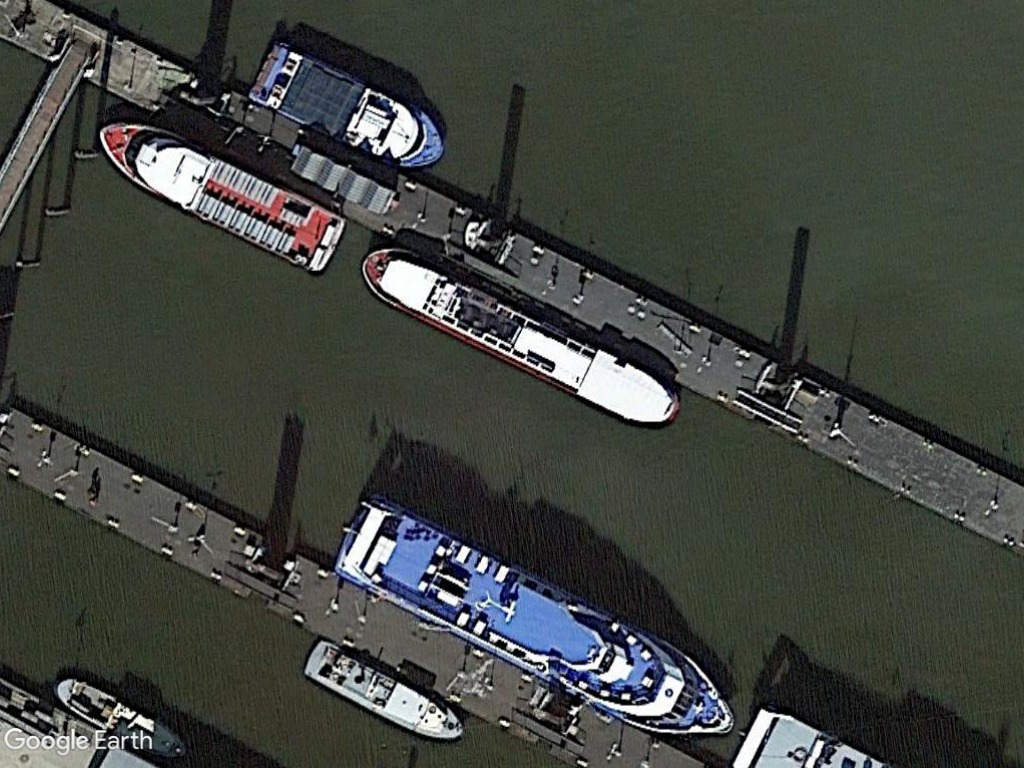boat: (325, 490, 736, 741), (355, 242, 688, 433), (93, 117, 348, 277), (244, 38, 450, 175), (297, 630, 468, 744)
